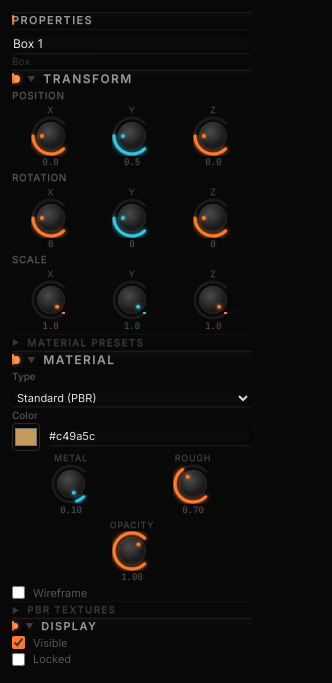
PropertiesPanel Accessibility › collapsible section buttons toggle aria-expanded on click
Click the button "▶ Transform" at (132, 78), box [12,70,252,88]
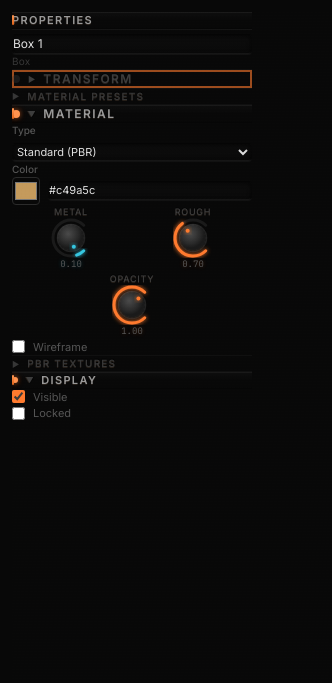
Check: the button "▶ Transform" is collapsed
Click the button "▶ Transform" at (132, 78), box [12,70,252,88]
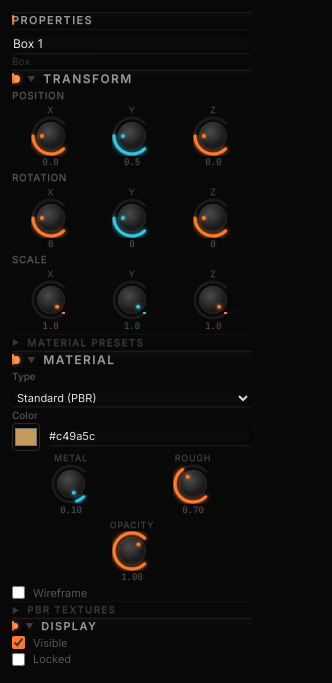
Check: the button "▶ Transform" is expanded, box [12,70,252,88]
